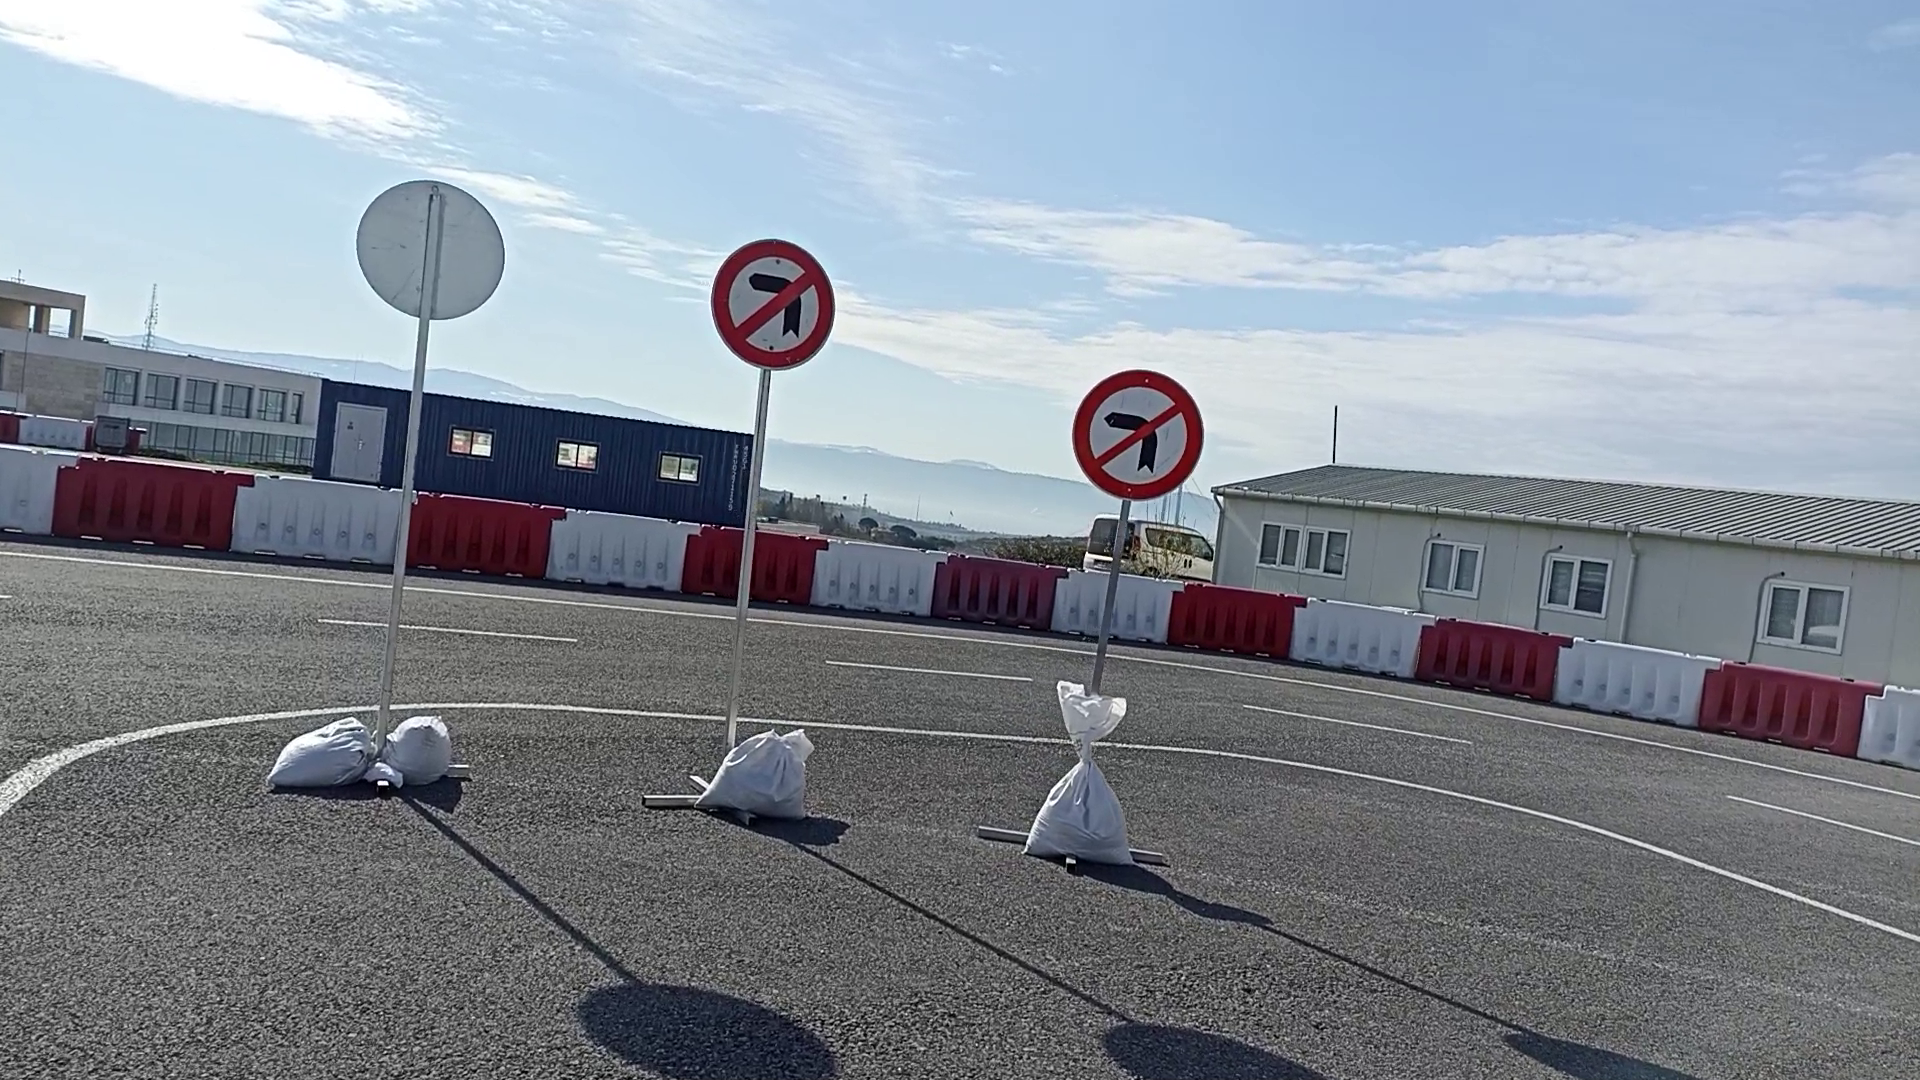noleft: (1069, 368, 1207, 502), (709, 236, 837, 372)
